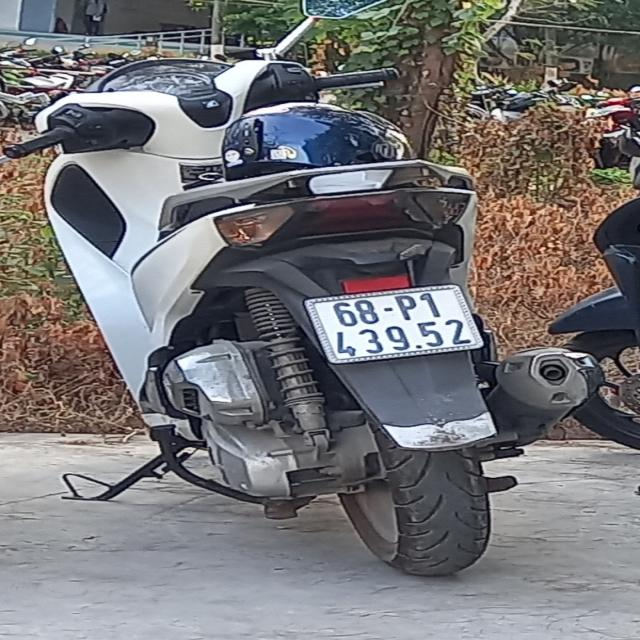1: (418, 292, 438, 316)
2: (442, 318, 473, 346)
3: (359, 328, 382, 354)
4: (336, 330, 360, 358)
5: (416, 320, 445, 346)
6: (334, 302, 357, 326)
8: (356, 299, 381, 325)
9: (384, 325, 410, 350)
P: (390, 293, 418, 320)
